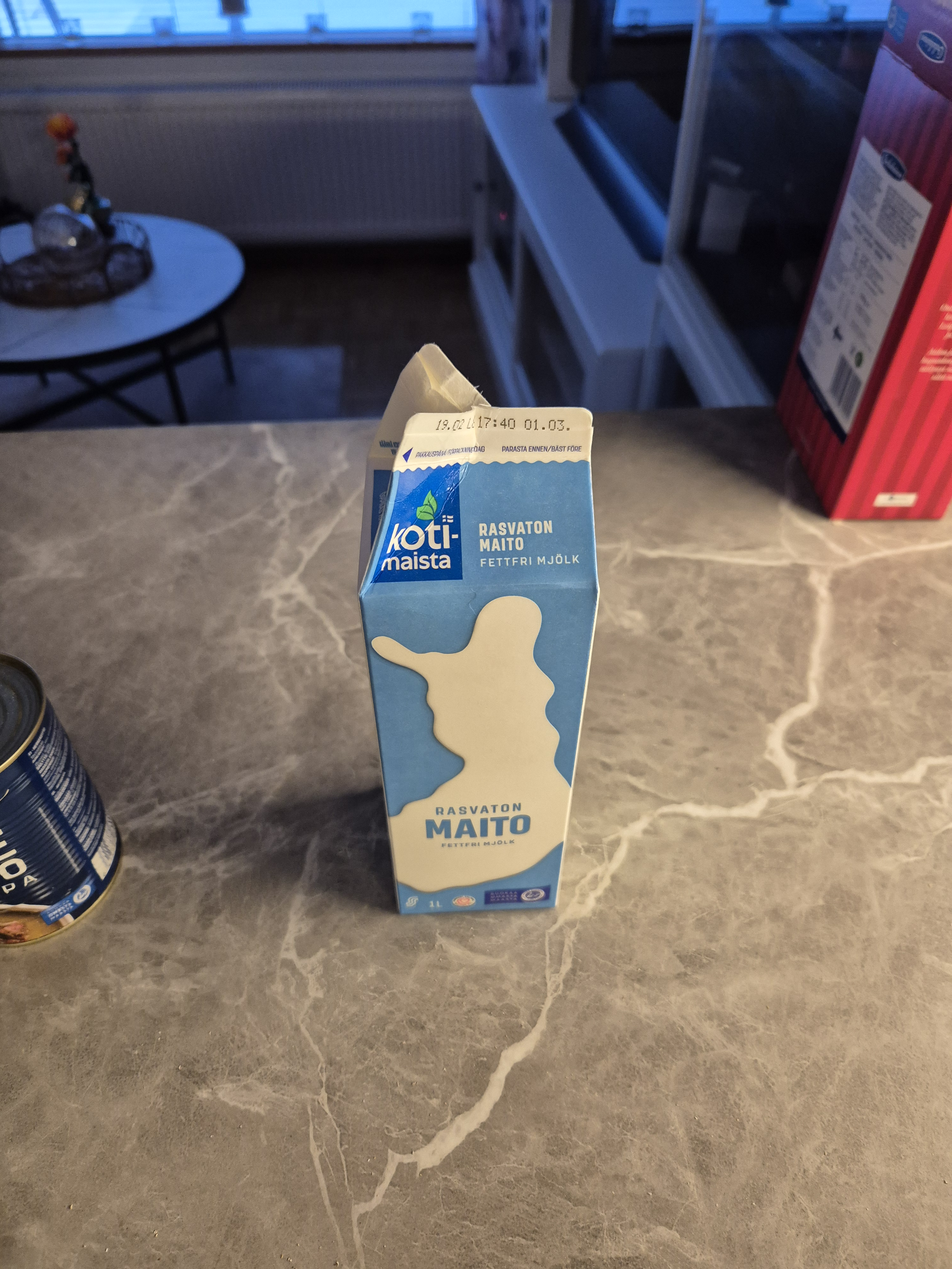Dryckeskartong: (356, 341, 600, 917)
